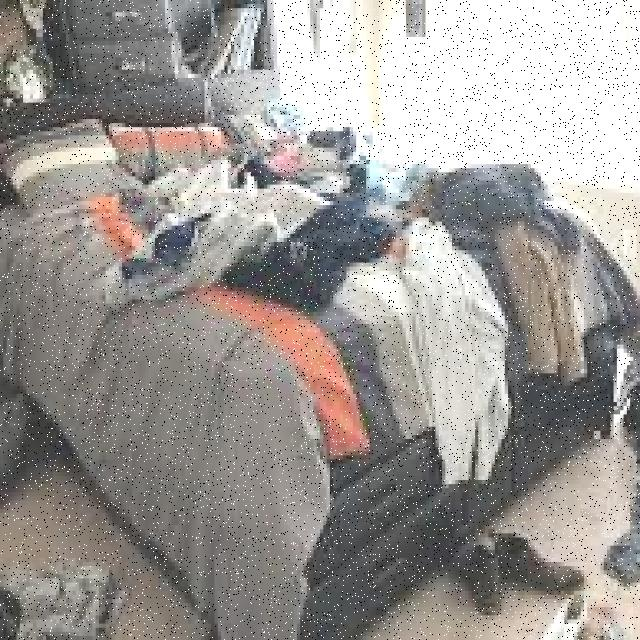bed: (4, 97, 616, 494)
